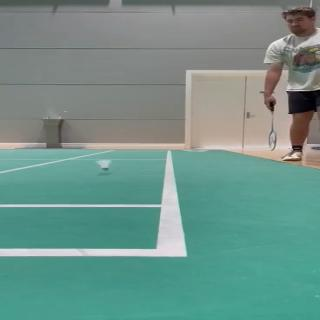Shuttle: (96, 160, 112, 172)
